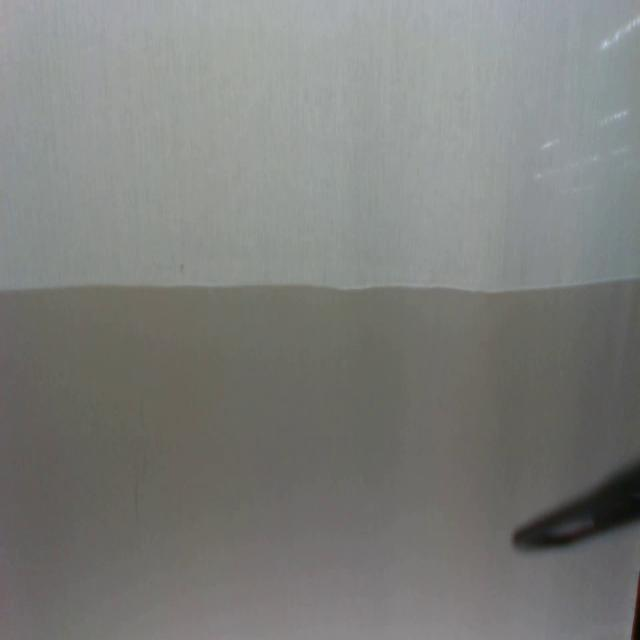hole: (179, 261, 184, 273)
